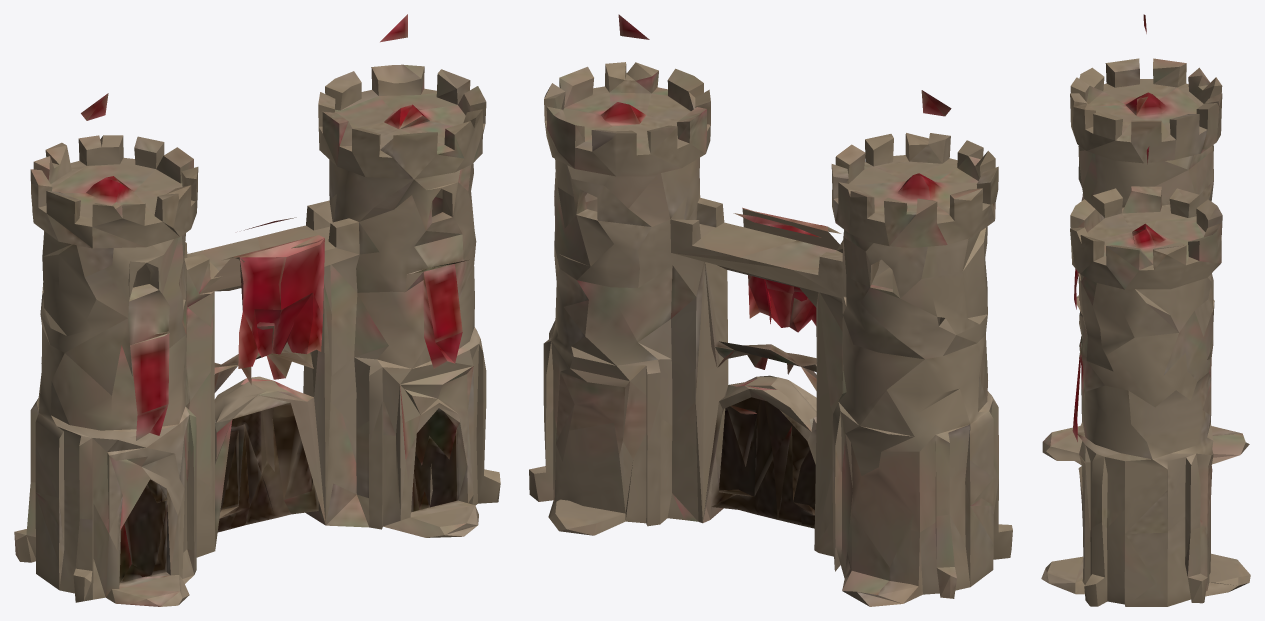
The model's file is citygate.glb.
The picture shows the model from 3 angles, left to right: view 1: azimuth 30°, elevation 25°; view 2: azimuth 150°, elevation 25°; view 3: azimuth 270°, elevation 25°; orthographic projection. The views are drawn at different scales.
Size of the model in its own units: 1.78 by 1.89 by 0.8248.
1 material, 1 textured.
